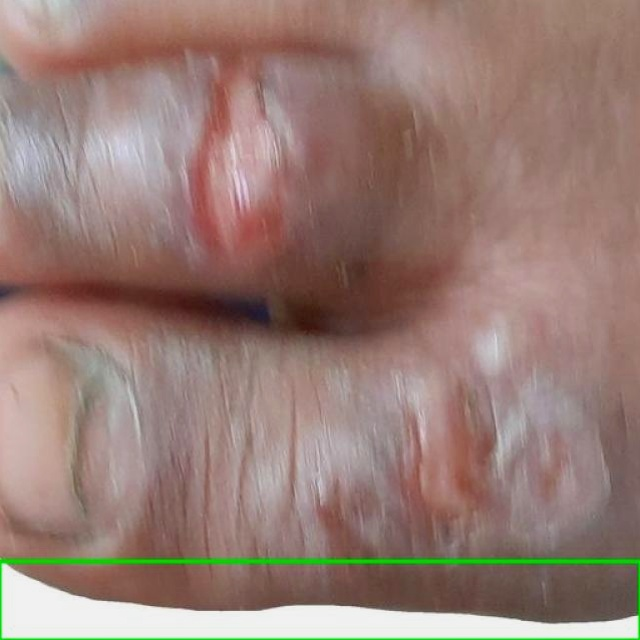Eczema: (0, 561, 639, 639)
